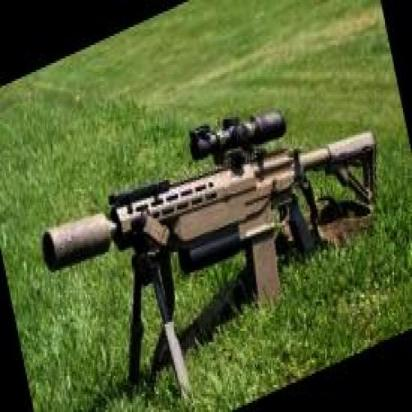Gun: (23, 50, 393, 380)
